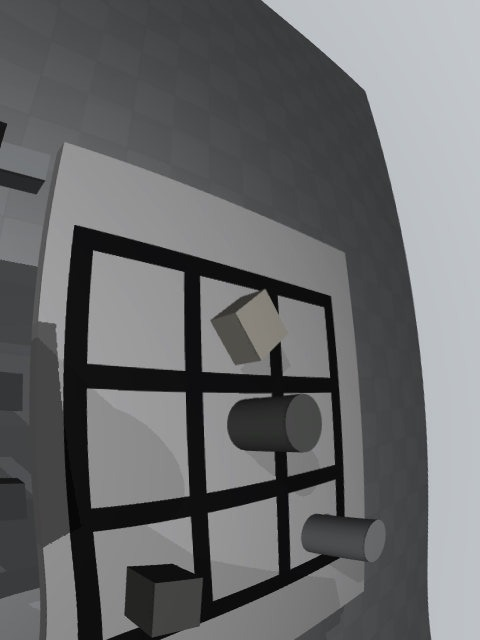can: (301, 514, 386, 563)
cube: (124, 564, 203, 638)
cylinder: (227, 394, 322, 453)
foam: (210, 289, 288, 365)
